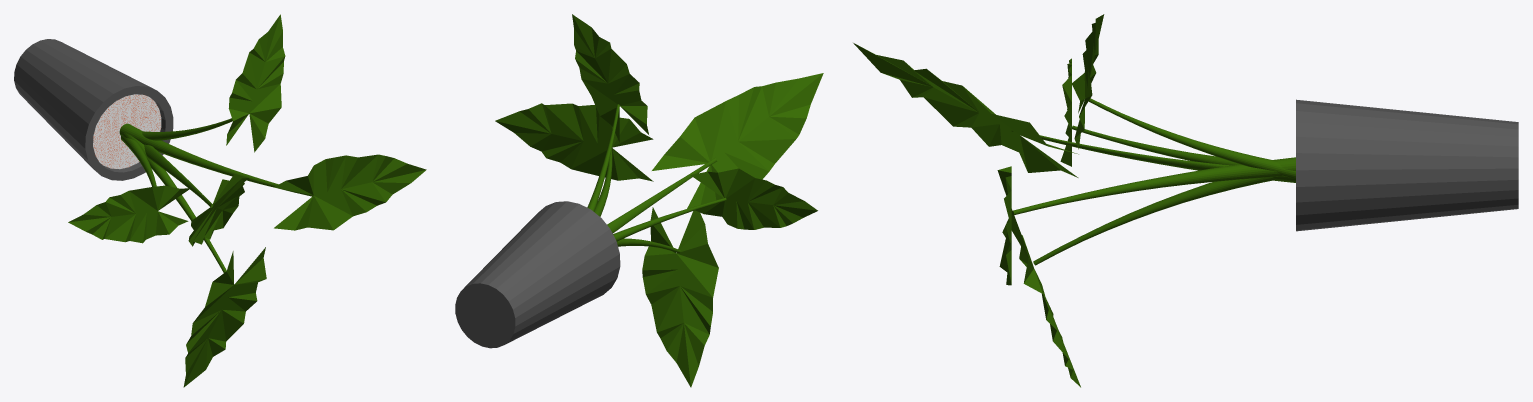
3 views of the same model, side by side, from view 1: azimuth 30°, elevation 25°; view 2: azimuth 150°, elevation 25°; view 3: azimuth 270°, elevation 25° (orthographic). The views are drawn at different scales.
Visible parts, largest first — view 1: plant in vase alocasia macrorrhiza; view 2: plant in vase alocasia macrorrhiza; view 3: plant in vase alocasia macrorrhiza.
Boxes of the visible parts, bbox=[...] form: plant in vase alocasia macrorrhiza: bbox=[14, 14, 426, 387]; plant in vase alocasia macrorrhiza: bbox=[455, 14, 823, 387]; plant in vase alocasia macrorrhiza: bbox=[853, 14, 1518, 387].
Bounding box in the file's own units: 51.31 × 49.9 × 68.37.
